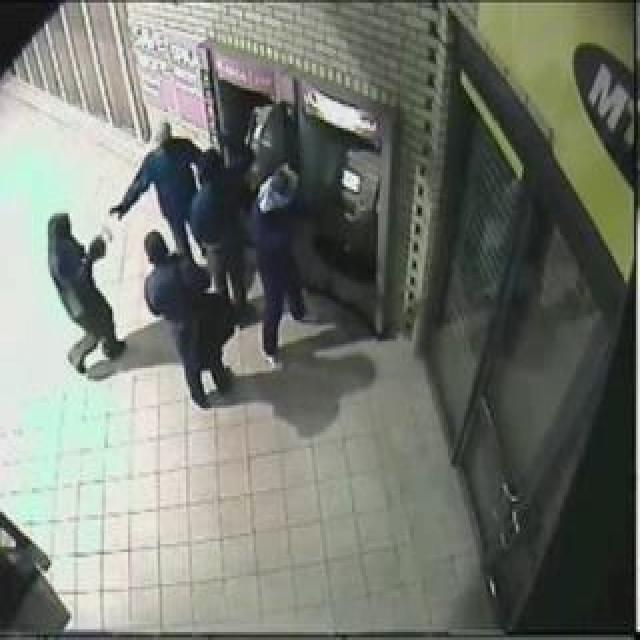thief: (51, 163, 394, 320)
